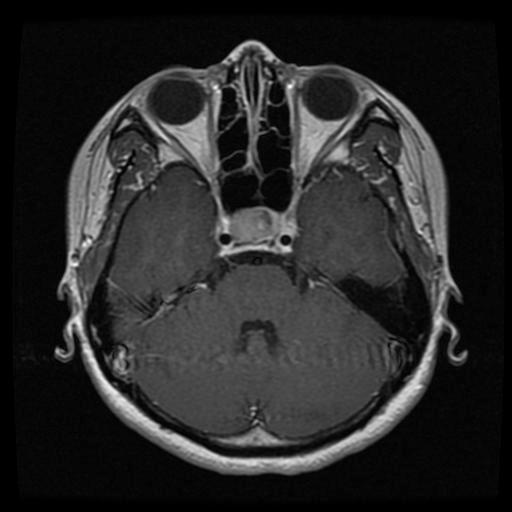Tumour-Pituitary: (205, 209, 310, 270)
